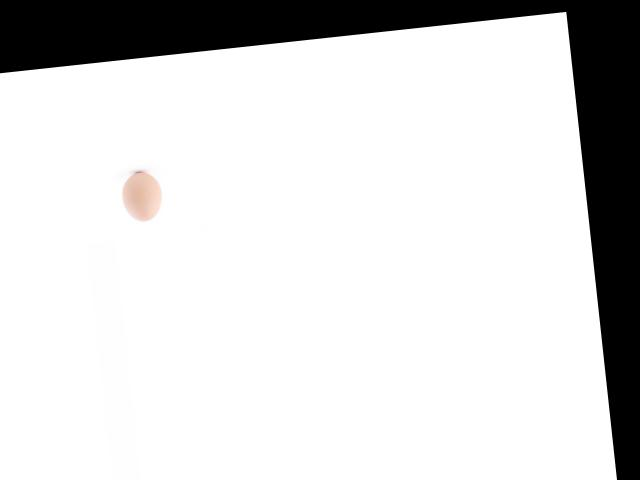egg: (118, 170, 163, 223)
